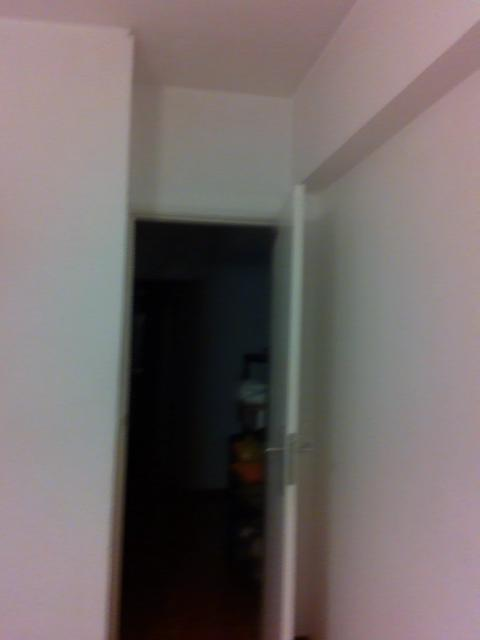open_door: (117, 213, 291, 639)
